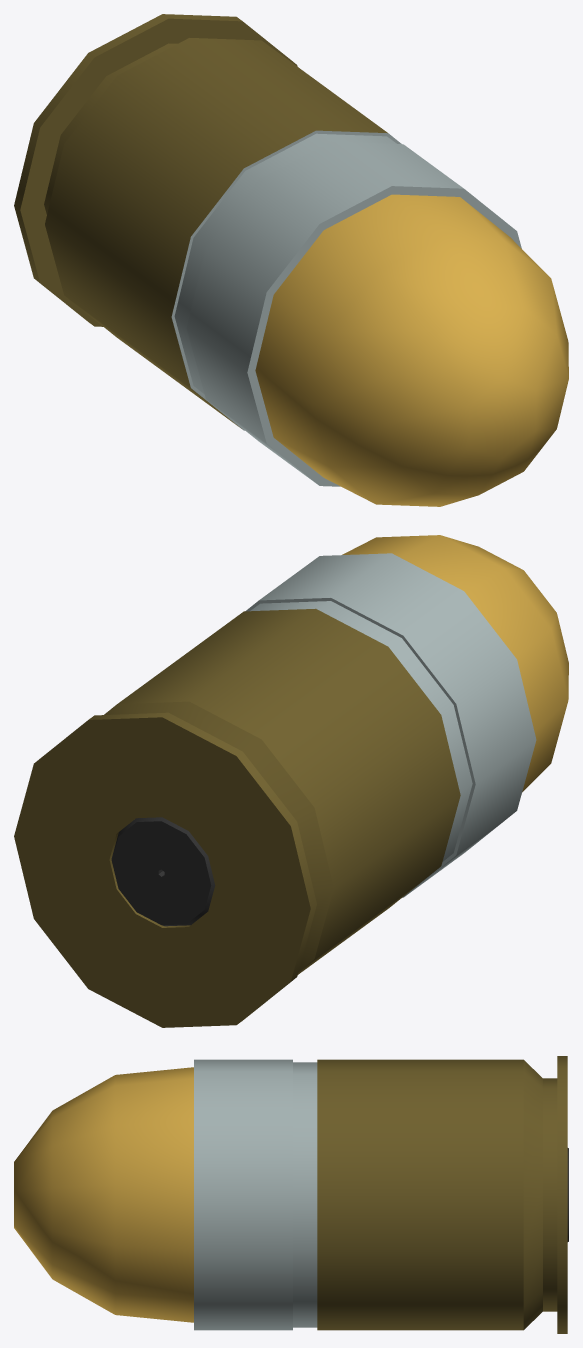
File: Bullet40mm.FBX
3 renders of one model, top to bottom at view 1: azimuth 30°, elevation 25°; view 2: azimuth 150°, elevation 25°; view 3: azimuth 270°, elevation 25°, orthographic. The views are drawn at different scales.
Parts seen in each view (by area): view 1: Bullet40mm; view 2: Bullet40mm; view 3: Bullet40mm.
Part boxes in pixels (x1,y1,x2,y2): Bullet40mm: (14,14,568,506); Bullet40mm: (14,535,568,1027); Bullet40mm: (14,1056,568,1333).
Size of the model in its own units: 3.93 by 3.93 by 7.82.
